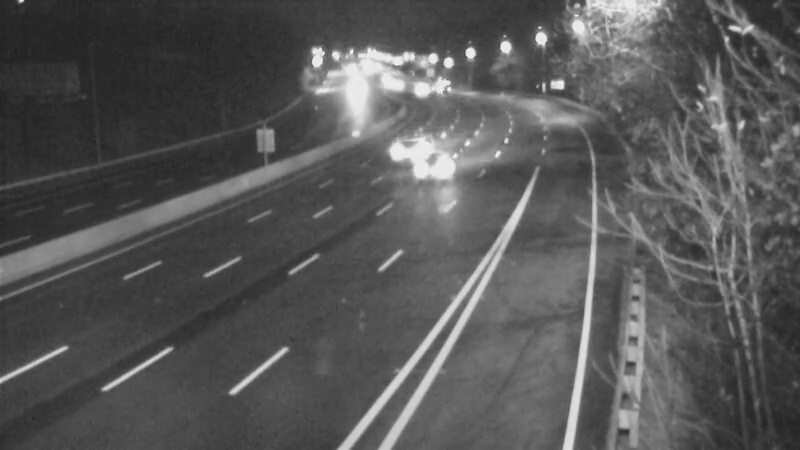vehicle: (396, 128, 476, 208), (420, 62, 470, 112), (392, 63, 442, 113), (380, 125, 430, 175), (330, 67, 380, 117)
